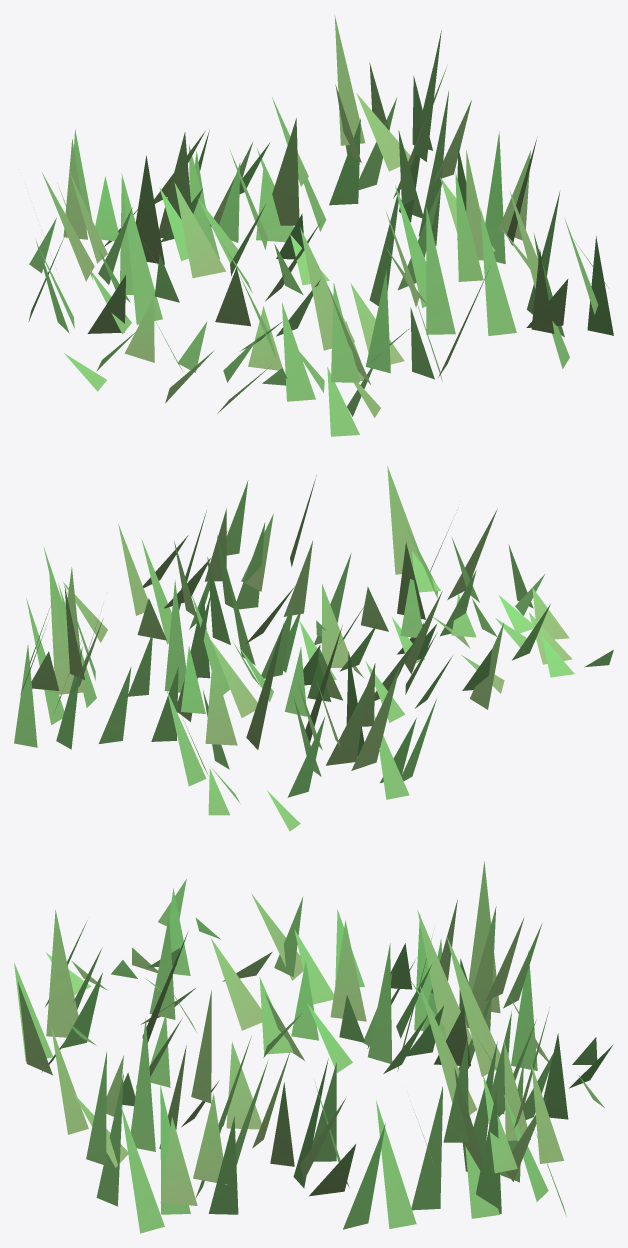
Rendered from grass_touffe_4.fbx.
3 views of the same model, one above another, from view 1: azimuth 30°, elevation 25°; view 2: azimuth 150°, elevation 25°; view 3: azimuth 270°, elevation 25° (orthographic). The views are drawn at different scales.
Parts seen in each view (by area): view 1: grass_touffe_4; view 2: grass_touffe_4; view 3: grass_touffe_4.
Boxes of the visible parts, bbox=[...] form: grass_touffe_4: bbox=[28, 15, 613, 436]; grass_touffe_4: bbox=[14, 466, 613, 831]; grass_touffe_4: bbox=[14, 861, 613, 1233].
Size of the model in its own units: 24.09 by 8.27 by 22.52.
